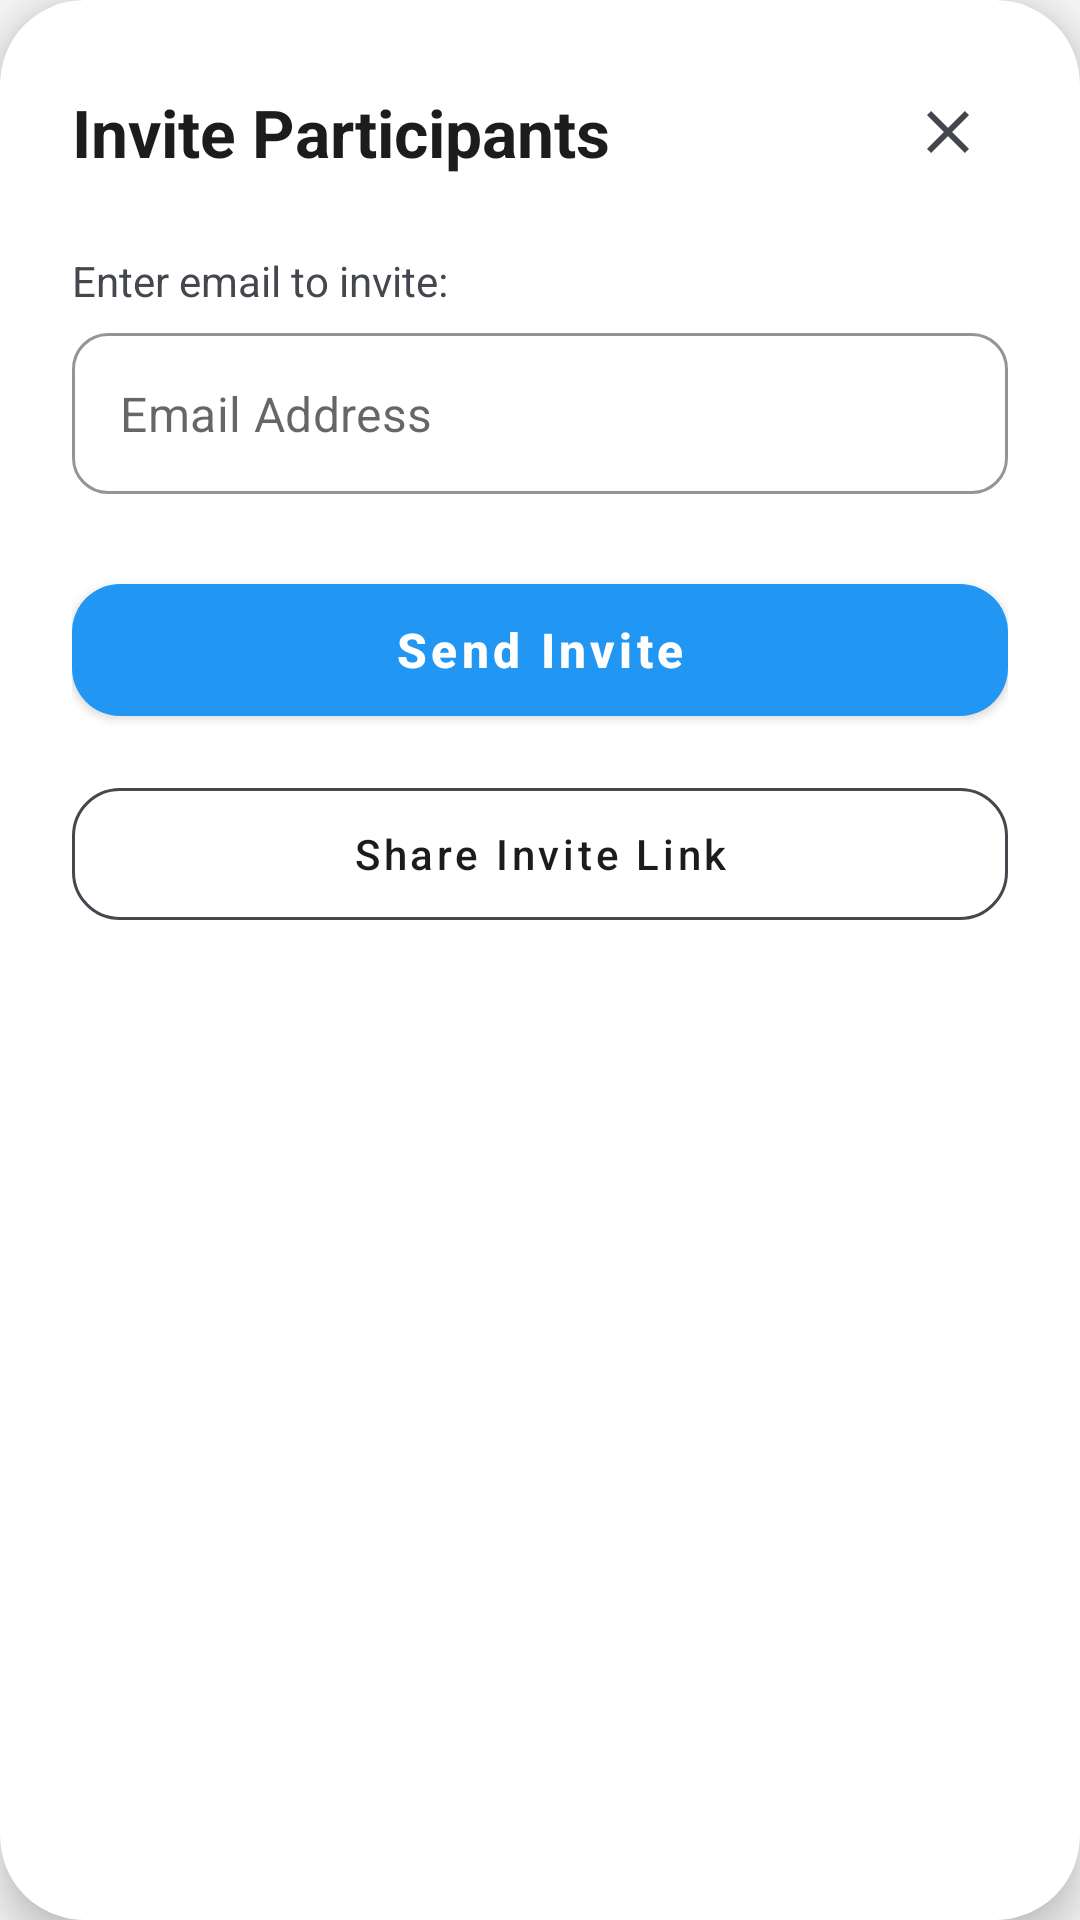

Locate icon controls on the screen. Image size 1080 x 1920, boxes as (x1, y1, x2, y2).
Close: (927, 111, 969, 153)
